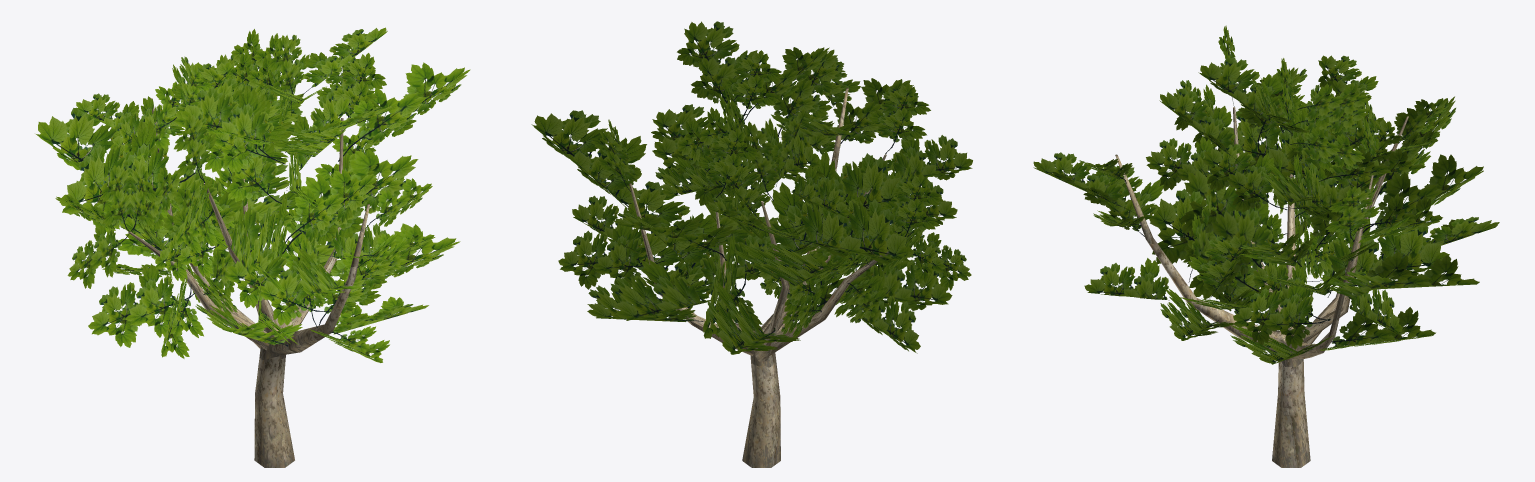
File: wutong.FBX
3 views of the same model, side by side, from view 1: azimuth 30°, elevation 25°; view 2: azimuth 150°, elevation 25°; view 3: azimuth 270°, elevation 25° (orthographic). The views are drawn at different scales.
Visible parts, largest first — view 1: wutong; view 2: wutong; view 3: wutong.
Boxes of the visible parts, x1,y1,x2,y2 form: wutong: (36, 27, 470, 467); wutong: (531, 21, 972, 467); wutong: (1033, 25, 1499, 467).
Size of the model in its own units: 24.35 by 22.41 by 24.53.
